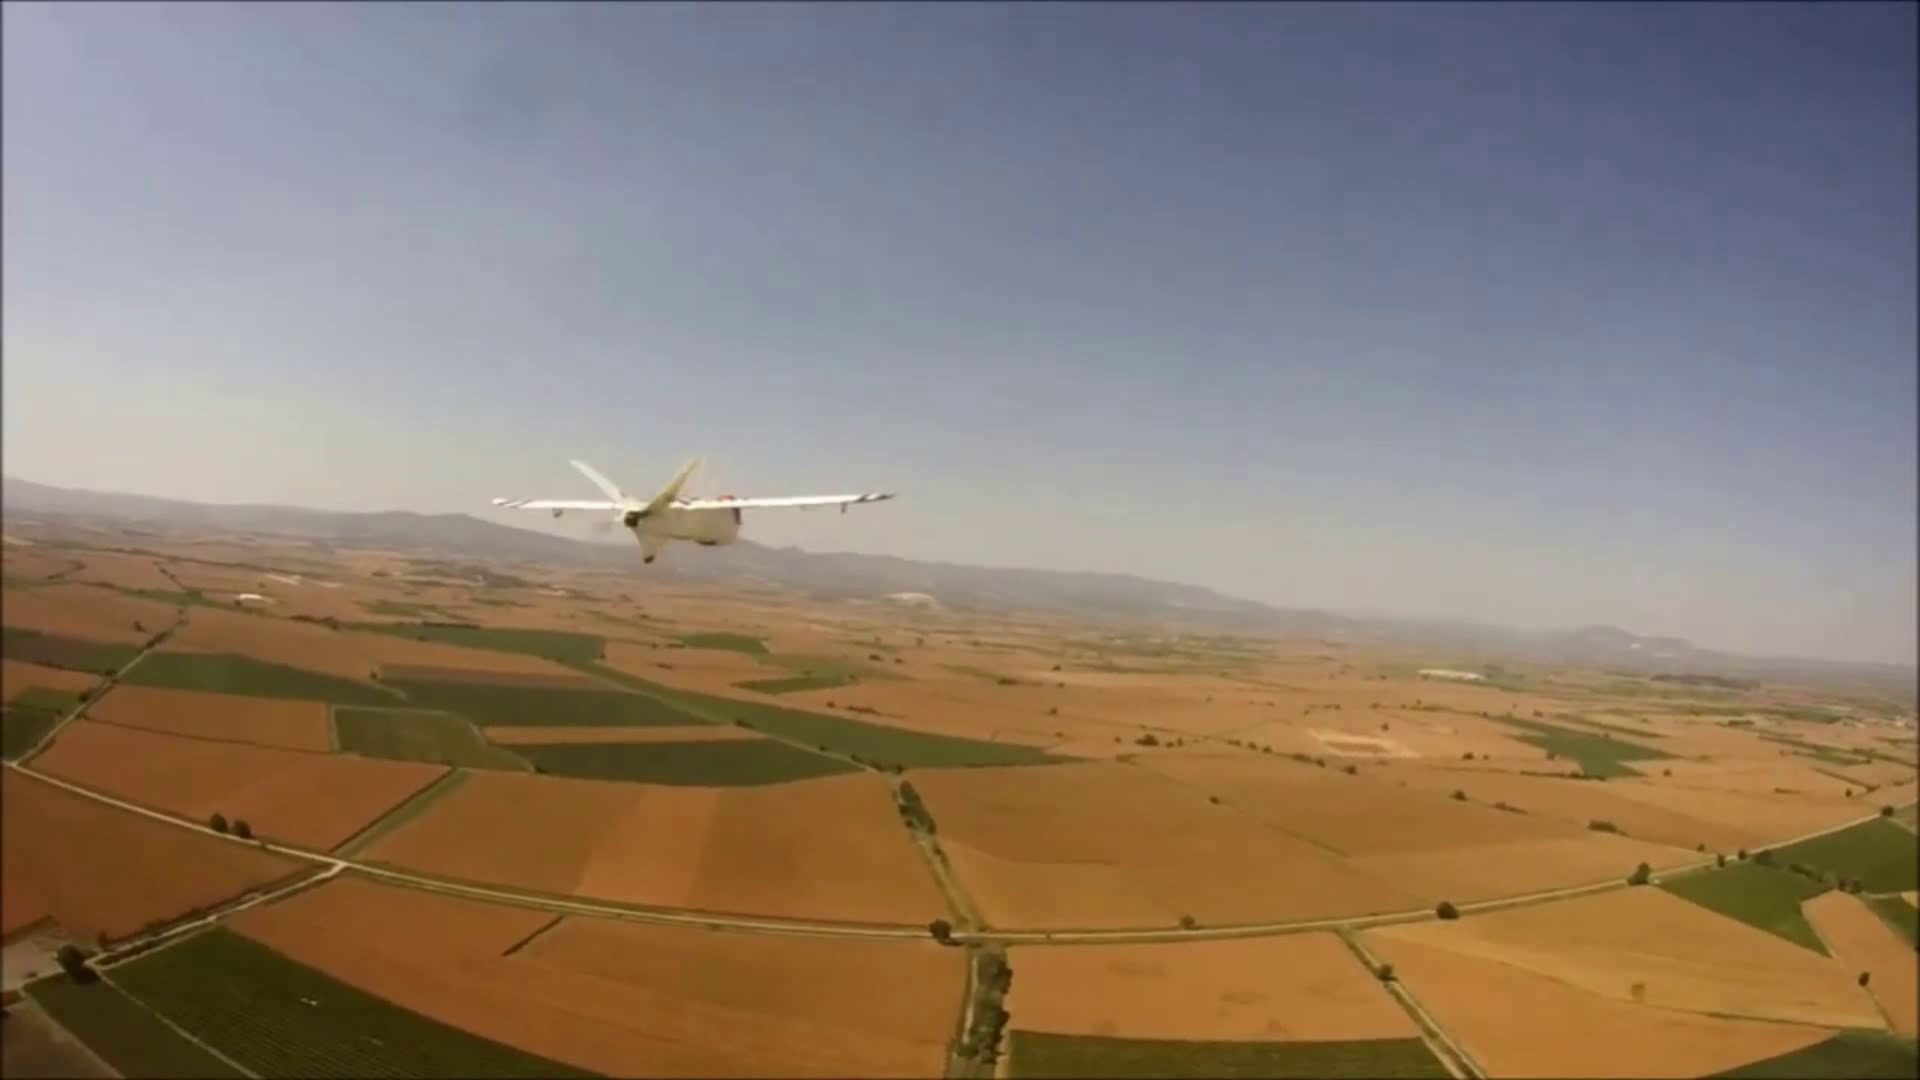airplane: (9, 508, 1870, 1069), (487, 454, 901, 566)
